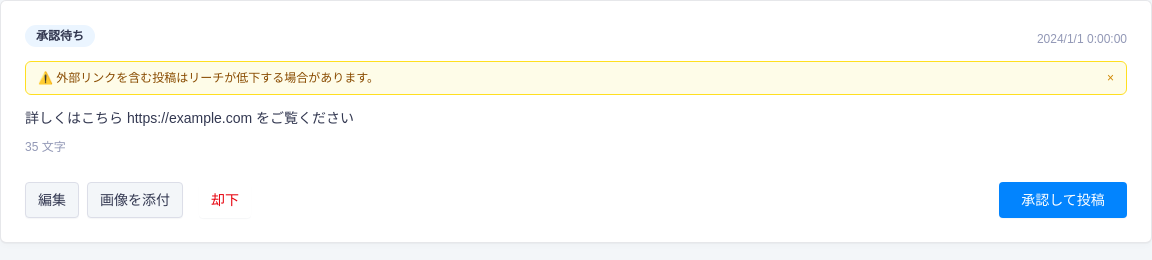
Test case: DraftCard › 外部リンク警告バナー › ×ボタンで警告バナーを閉じることができる
Click the button named "警告を閉じる" at [1110, 78], box [1107,70,1114,86]
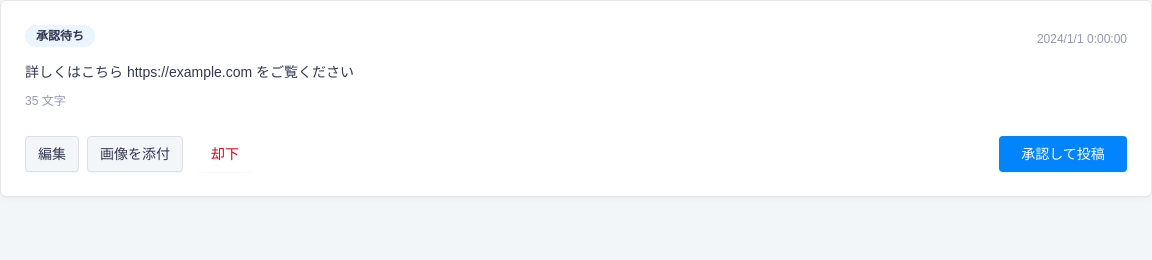
Check: the message "⚠️ 外部リンクを含む投稿はリーチが低下する場合があります。 ×" is gone
